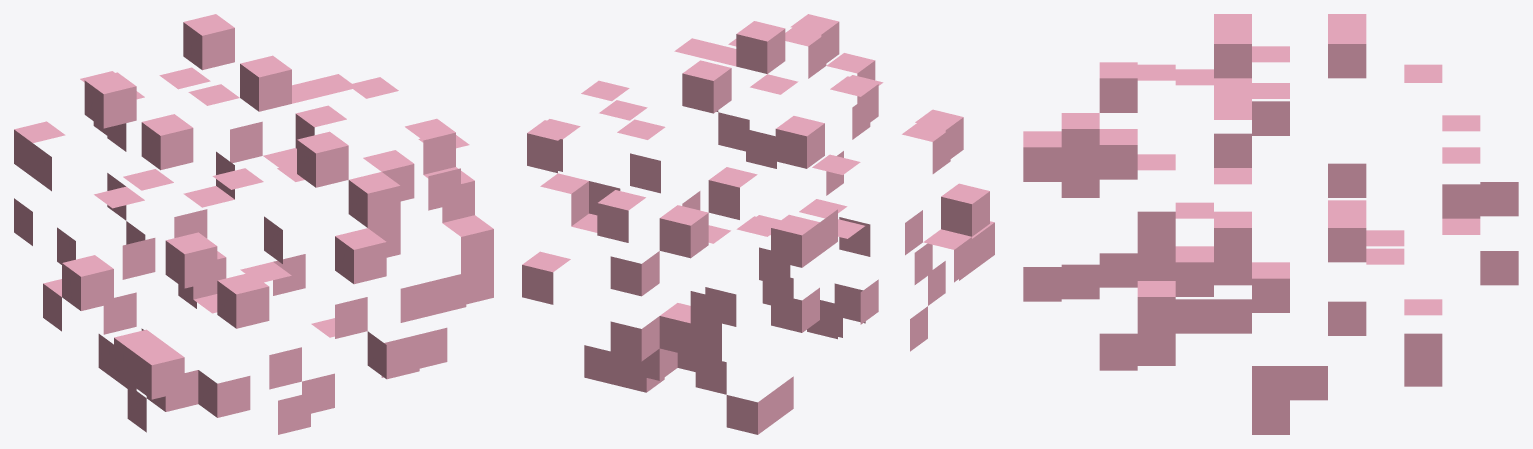
Rendered from tree-cherry-1-pink1-ffb7ce.gltf.
3 renders of one model, left to right at view 1: azimuth 30°, elevation 25°; view 2: azimuth 150°, elevation 25°; view 3: azimuth 270°, elevation 25°, orthographic. The views are drawn at different scales.
Parts seen in each view (by area): view 1: tree-cherry-1-pink1-ffb7ce; view 2: tree-cherry-1-pink1-ffb7ce; view 3: tree-cherry-1-pink1-ffb7ce.
Part boxes in pixels (left/top/right/bottom): tree-cherry-1-pink1-ffb7ce: left=14, top=14, right=493, bottom=434; tree-cherry-1-pink1-ffb7ce: left=522, top=14, right=994, bottom=434; tree-cherry-1-pink1-ffb7ce: left=1023, top=14, right=1518, bottom=434.
Bounding box in the file's own units: 13 × 10 × 13.
